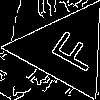F: (40, 24, 100, 75)
